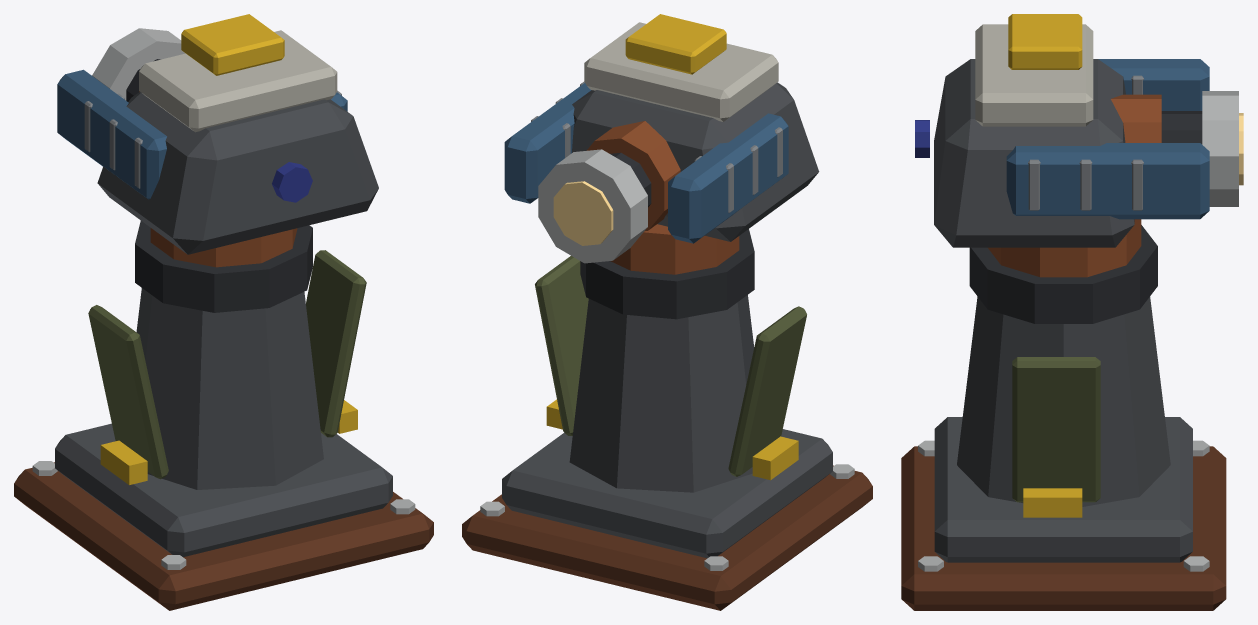
Rendered from piece_turret_laser.fbx.
3 views of the same model, side by side, from view 1: azimuth 30°, elevation 25°; view 2: azimuth 150°, elevation 25°; view 3: azimuth 270°, elevation 25° (orthographic). The views are drawn at different scales.
Visible parts, largest first — view 1: piece_turret_laser, Head; view 2: piece_turret_laser, Head; view 3: piece_turret_laser, Head.
Part boxes in pixels (bbox=[...]): piece_turret_laser: bbox=[14, 220, 433, 610]; Head: bbox=[57, 14, 378, 254]; piece_turret_laser: bbox=[462, 224, 872, 610]; Head: bbox=[504, 14, 819, 263]; piece_turret_laser: bbox=[901, 219, 1226, 610]; Head: bbox=[915, 14, 1243, 247].
Size of the model in its own units: 0.89 by 1.54 by 0.927.
